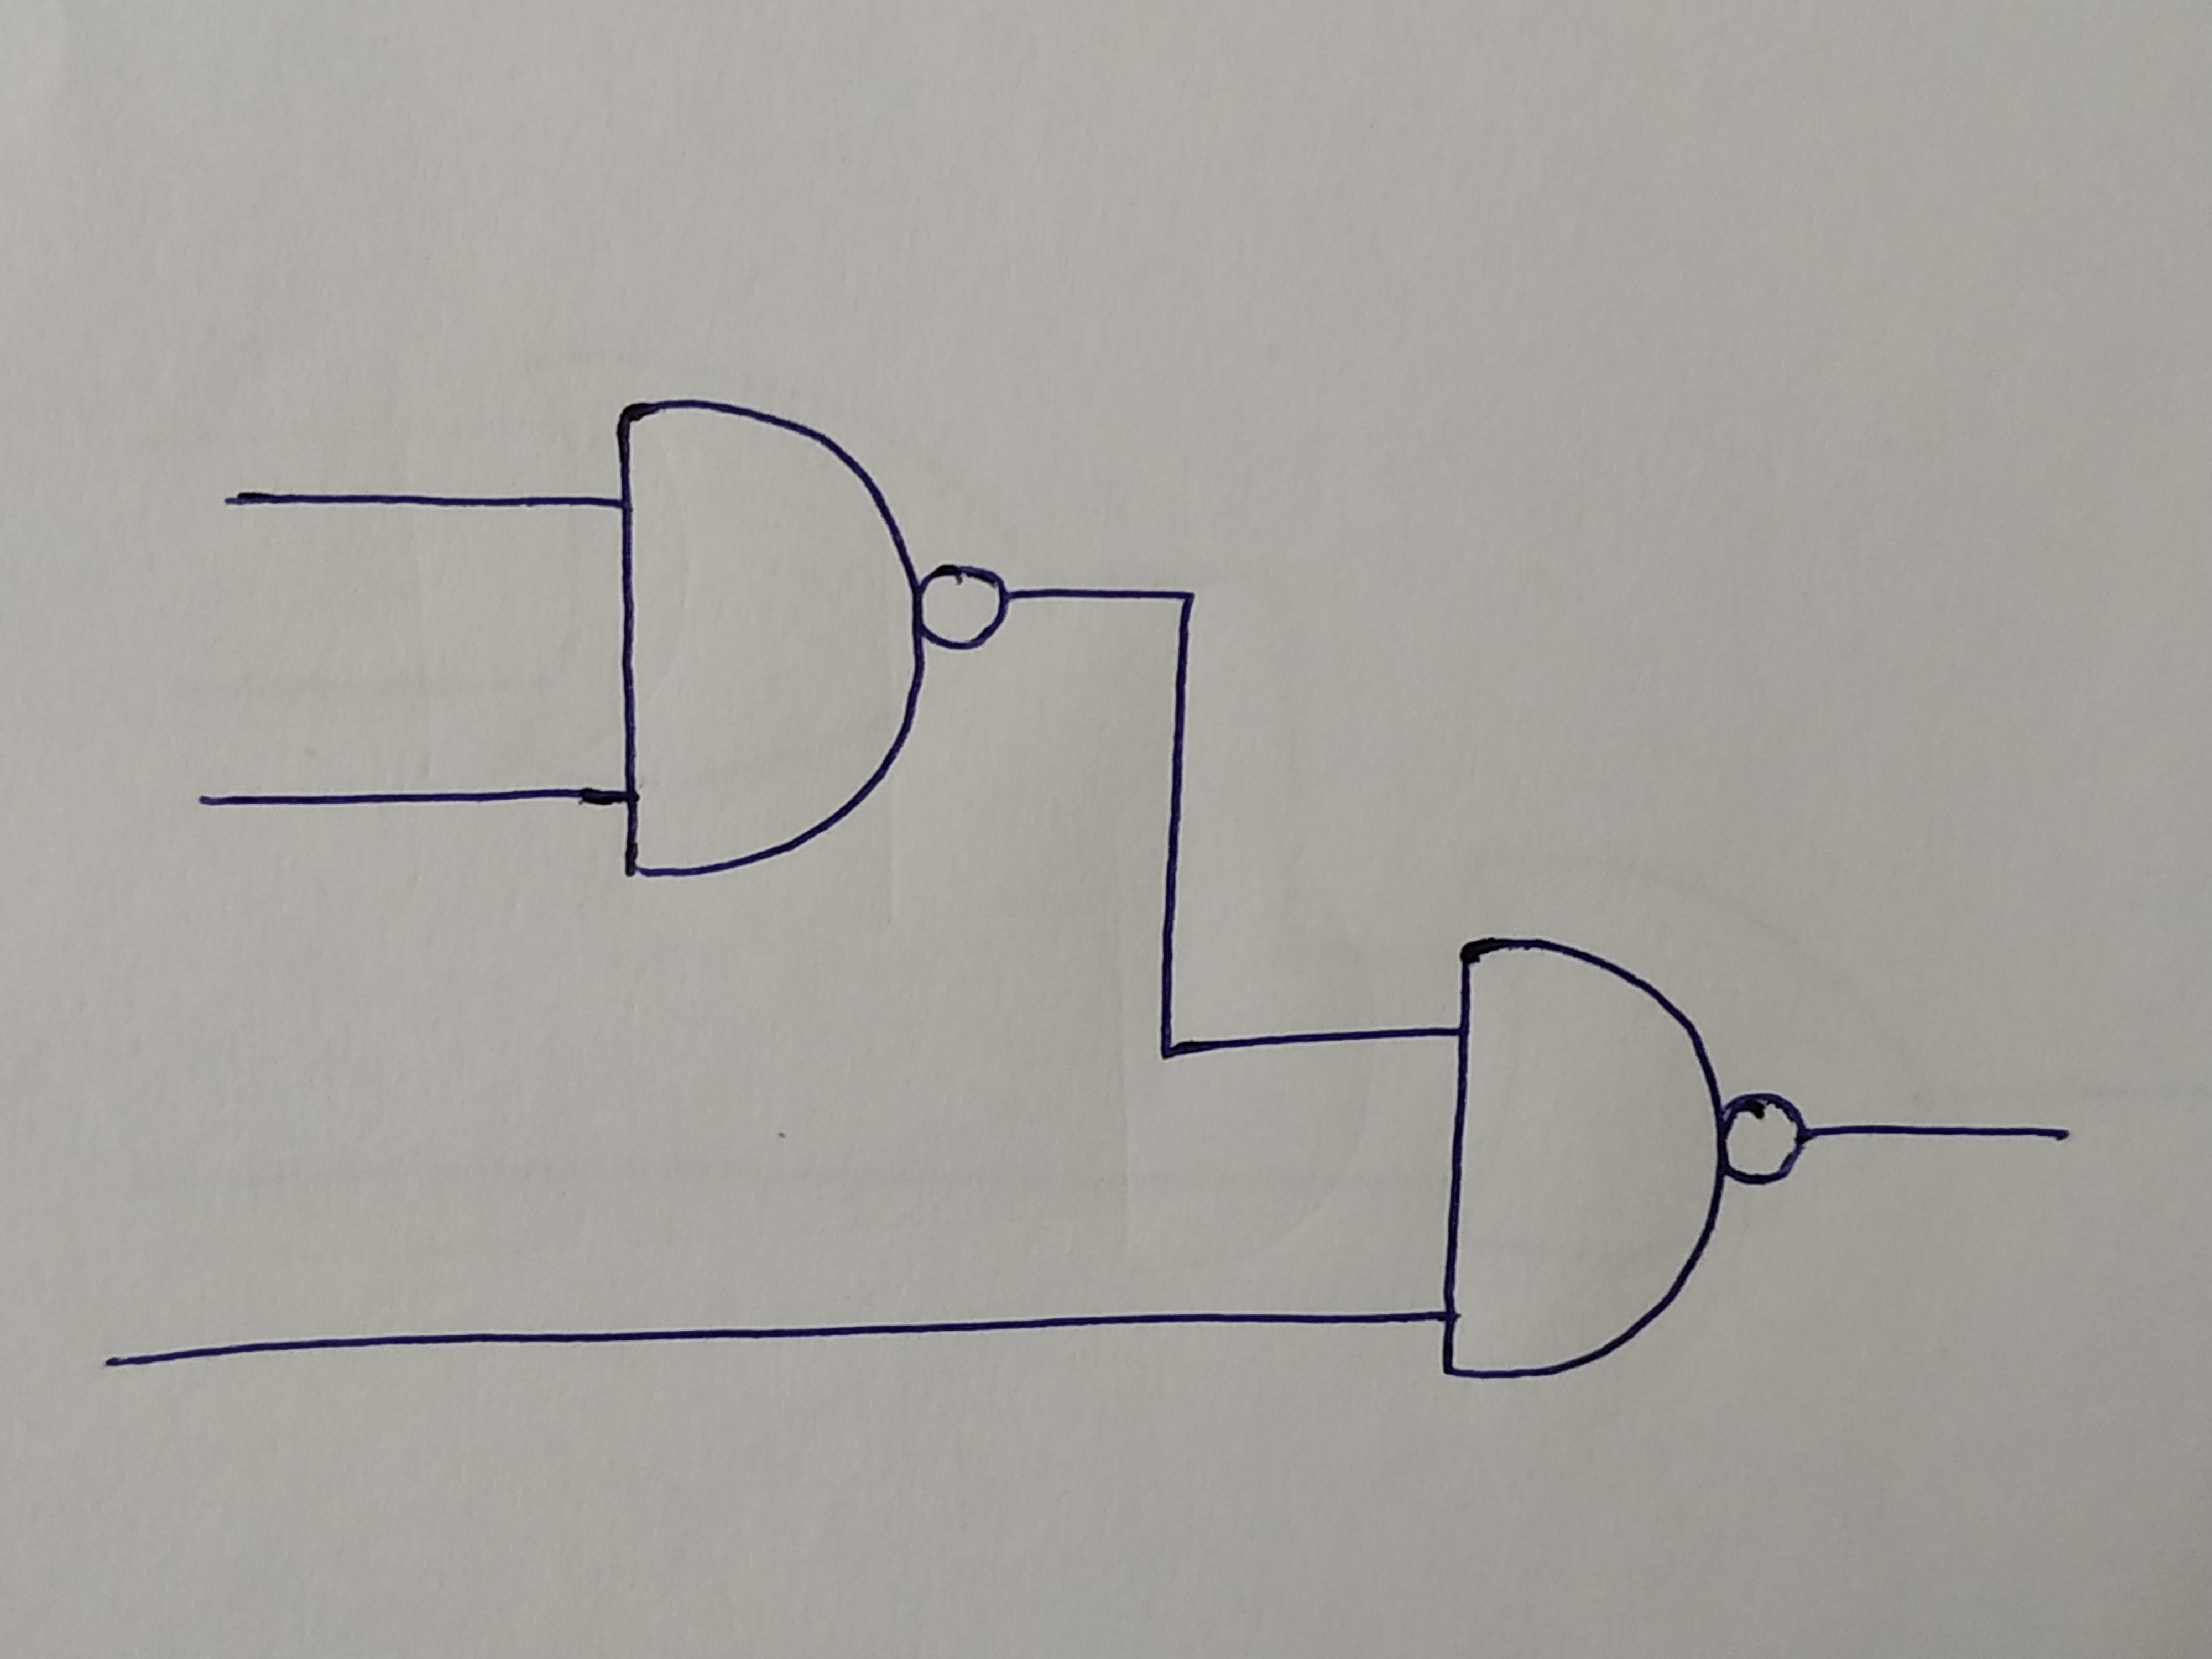and: (615, 403, 916, 875), (1447, 936, 1721, 1375)
not: (920, 563, 1005, 652), (1721, 1093, 1806, 1182)
